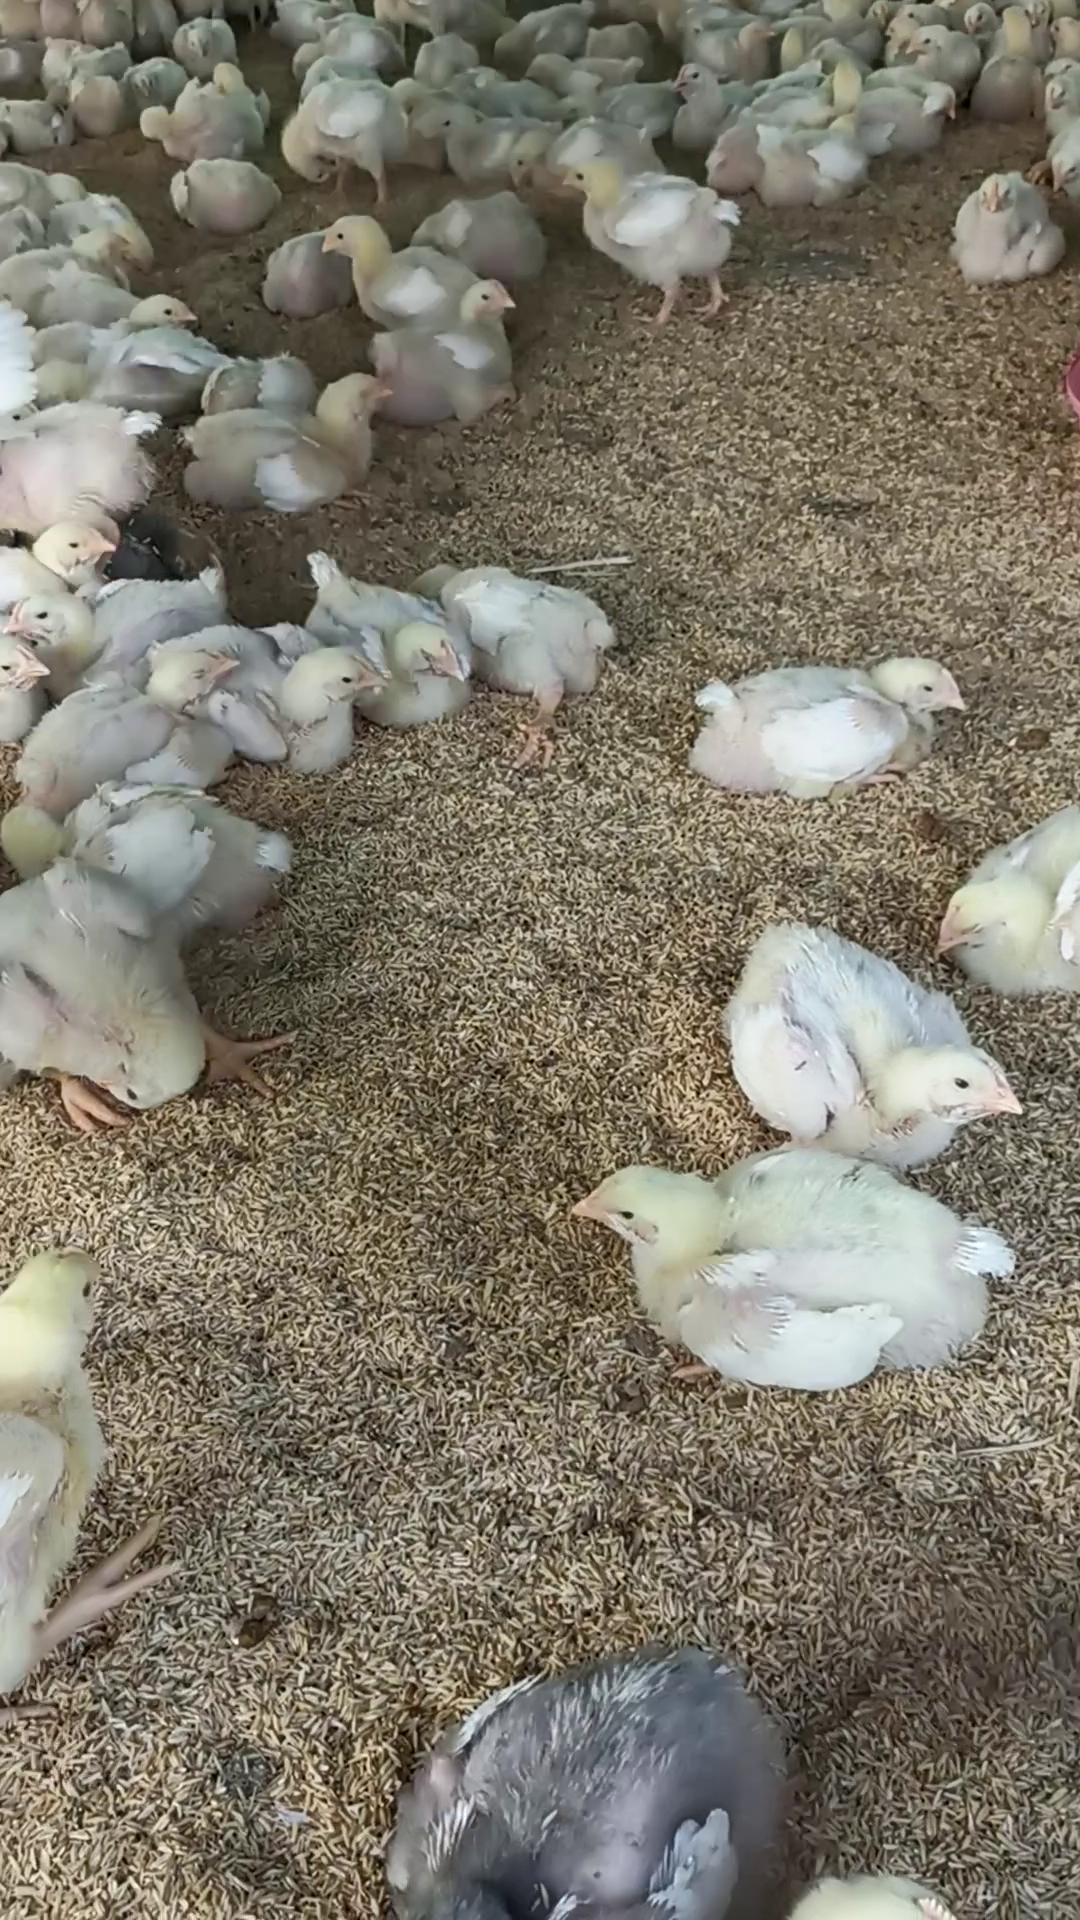Pollos: (568, 1149, 1010, 1373), (0, 814, 280, 1112), (728, 927, 1023, 1139), (0, 1240, 129, 1606), (684, 658, 969, 799), (18, 650, 233, 814), (313, 559, 477, 720), (186, 375, 393, 501), (473, 550, 626, 704), (940, 808, 1080, 977), (559, 157, 742, 280), (28, 285, 199, 411), (397, 280, 520, 425), (241, 637, 388, 750), (760, 107, 887, 204), (949, 174, 1064, 280), (324, 215, 448, 313), (5, 579, 200, 636), (284, 86, 398, 177), (170, 156, 284, 235), (880, 21, 982, 94), (669, 58, 731, 144), (171, 20, 240, 61)
